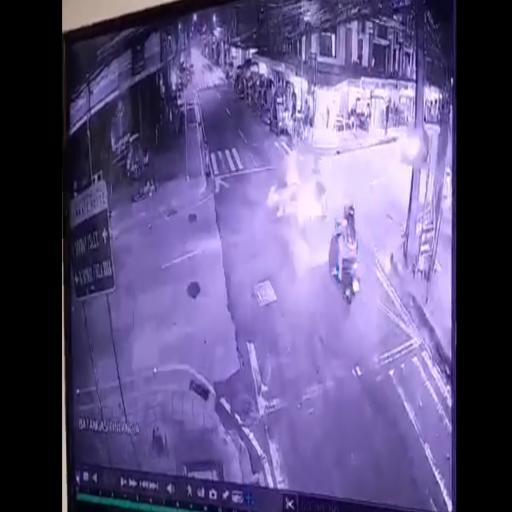Major Accident: (272, 146, 330, 230)
Motor: (330, 204, 358, 299), (273, 148, 302, 222), (303, 160, 329, 226)
